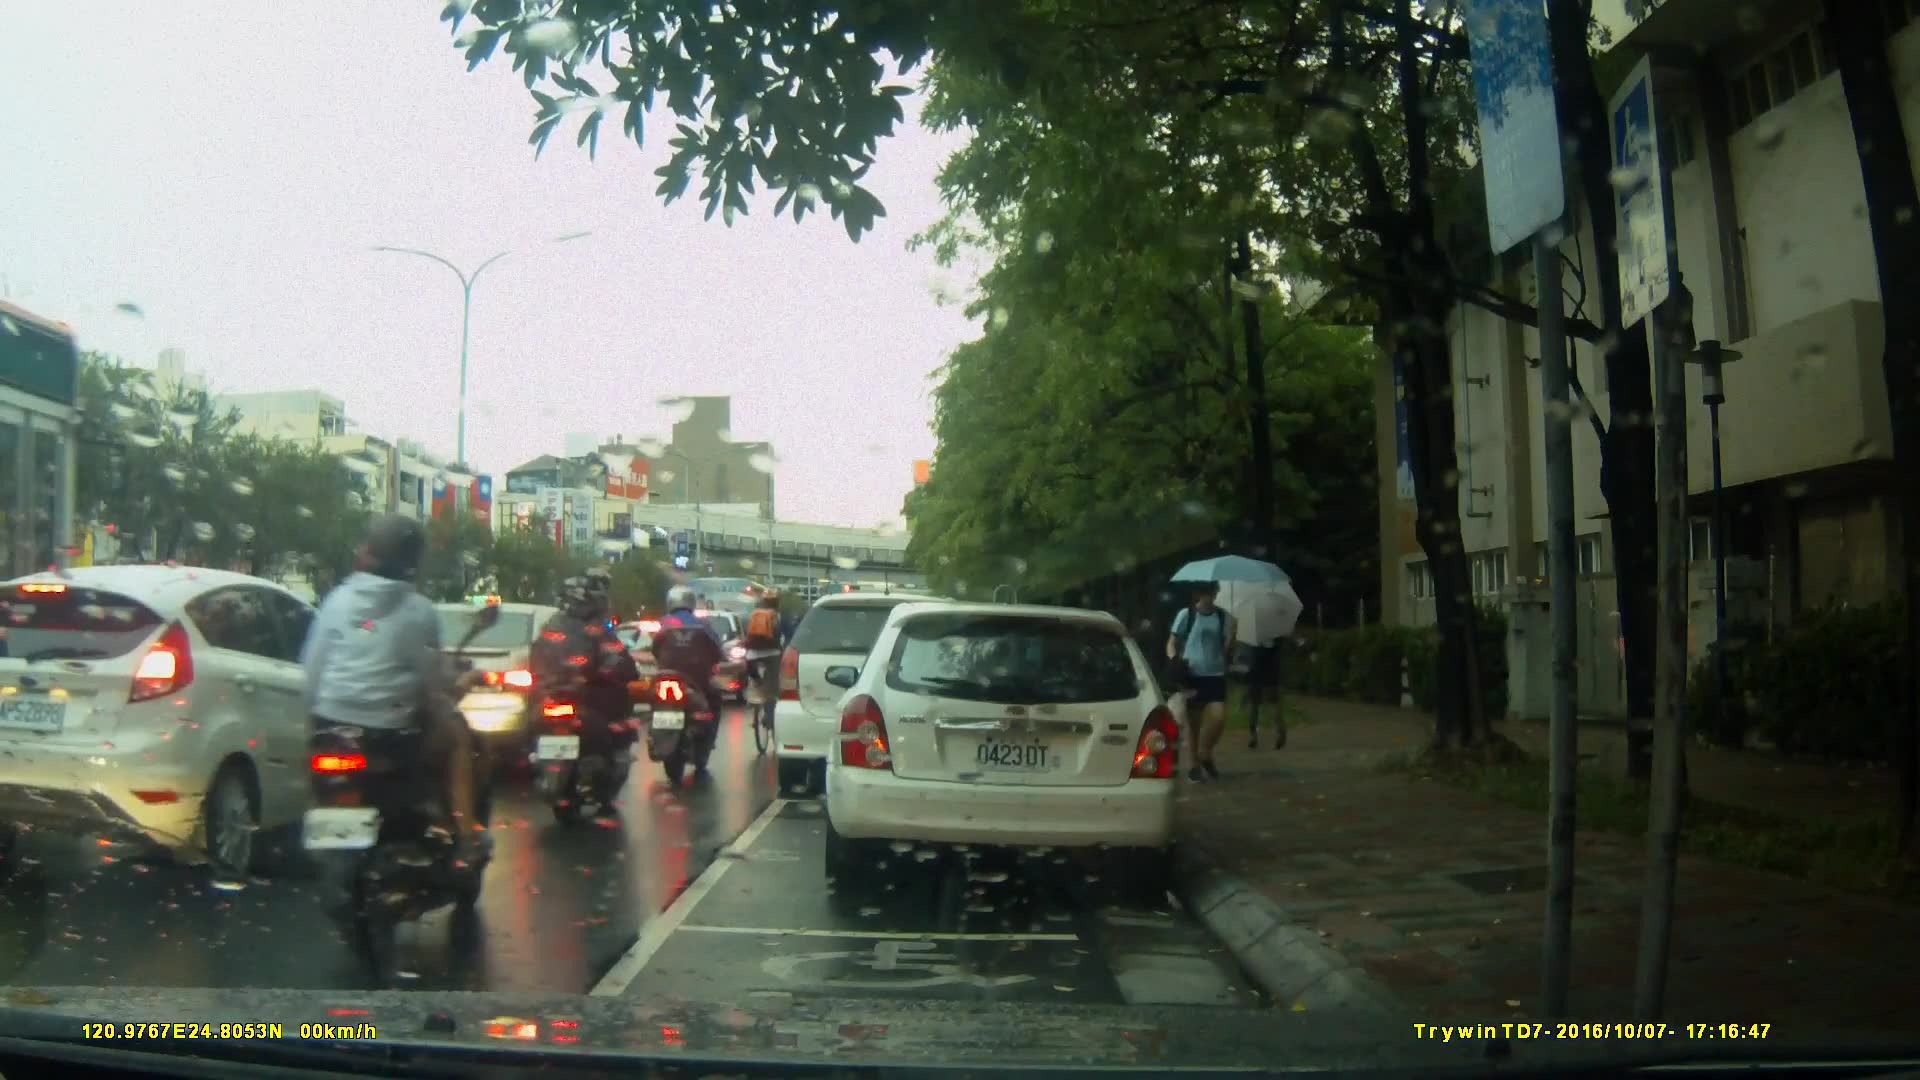pedestrian: (1173, 561, 1247, 800), (1250, 590, 1298, 750)
rider: (291, 500, 482, 959), (552, 574, 651, 829), (649, 583, 735, 784), (753, 586, 803, 764)
vehicle: (1, 560, 416, 892), (835, 594, 1194, 898), (344, 594, 602, 789), (776, 590, 1026, 784), (599, 620, 726, 721), (678, 574, 798, 672)
